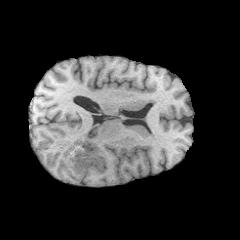glioma: (57, 134, 101, 179)
